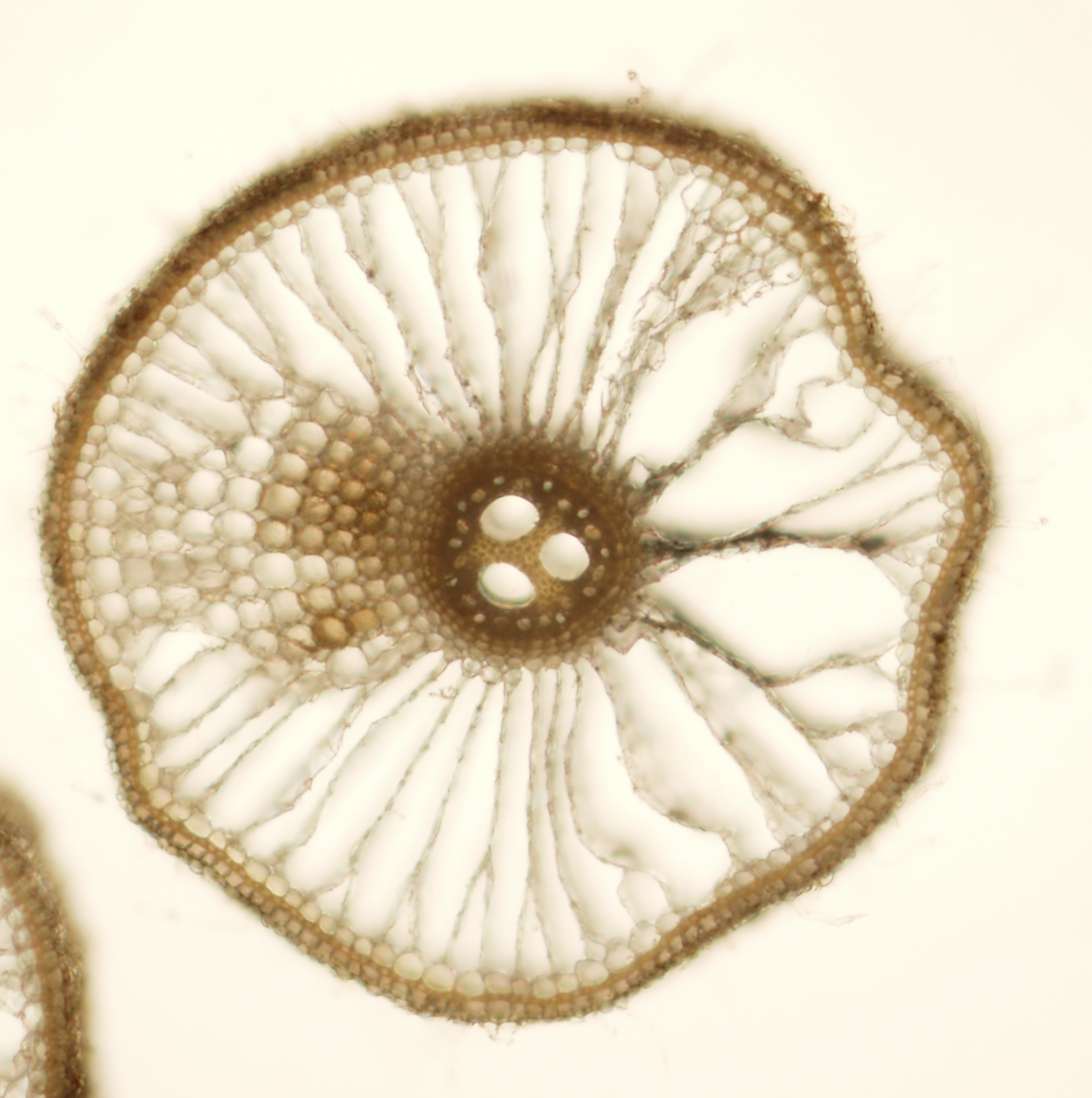lm: (480, 494, 539, 541), (476, 562, 536, 608), (538, 532, 590, 580)
